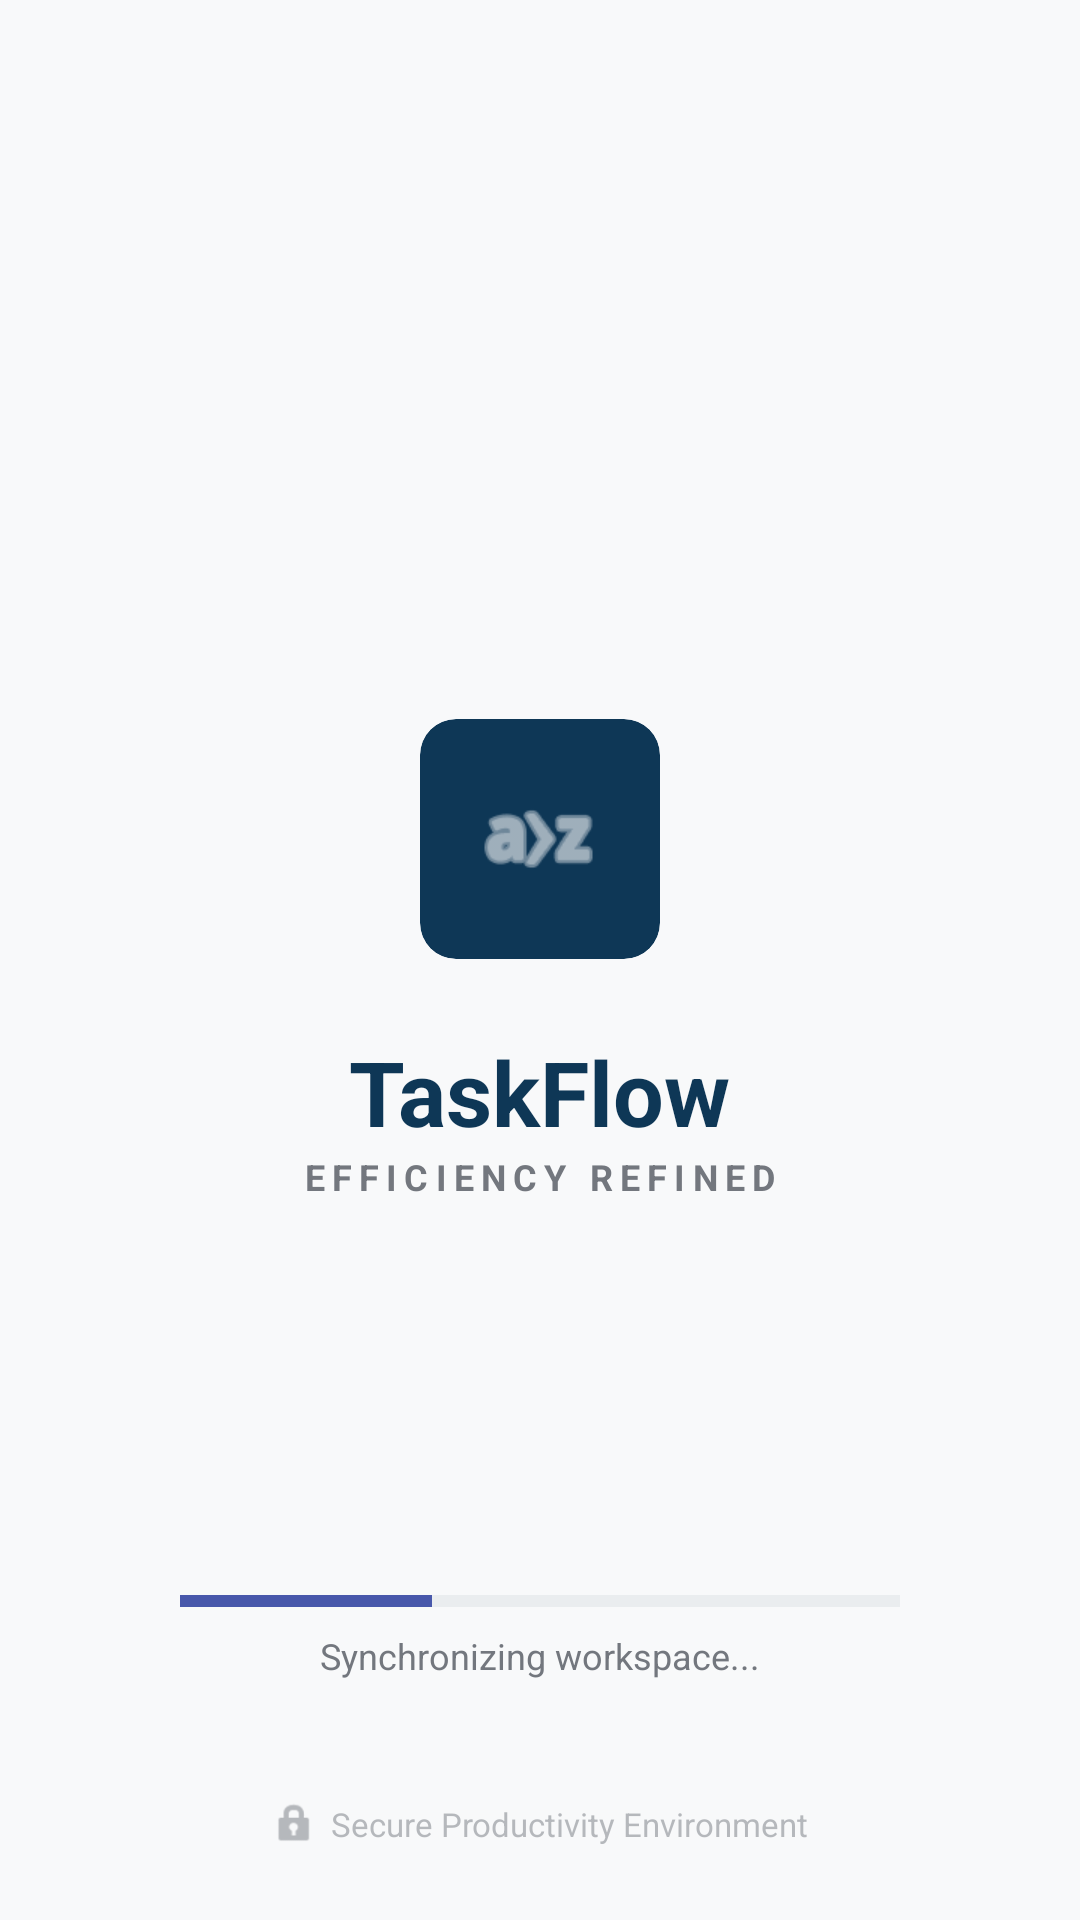

Icon click points for this 1080*1920 phone screenshot, format (x,y):
lock idle: (293,1823)
sort alphabetically: (538,839)
